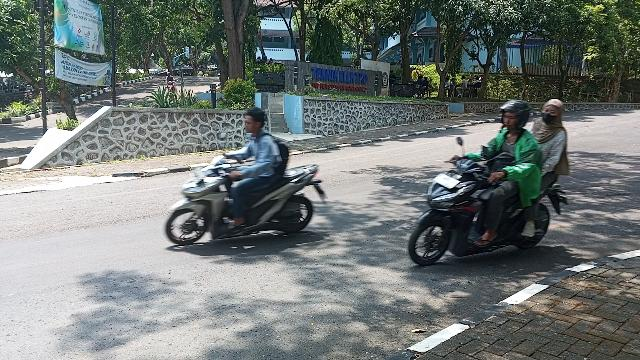helm: (498, 99, 533, 134)
motor: (407, 136, 571, 269), (164, 153, 331, 249)
non-helm: (244, 109, 269, 136), (542, 100, 565, 127)
